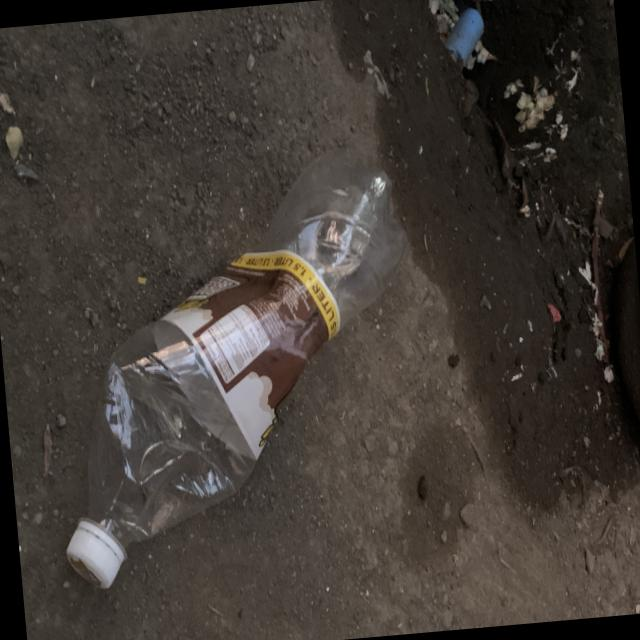Bottle: (66, 149, 406, 586)
